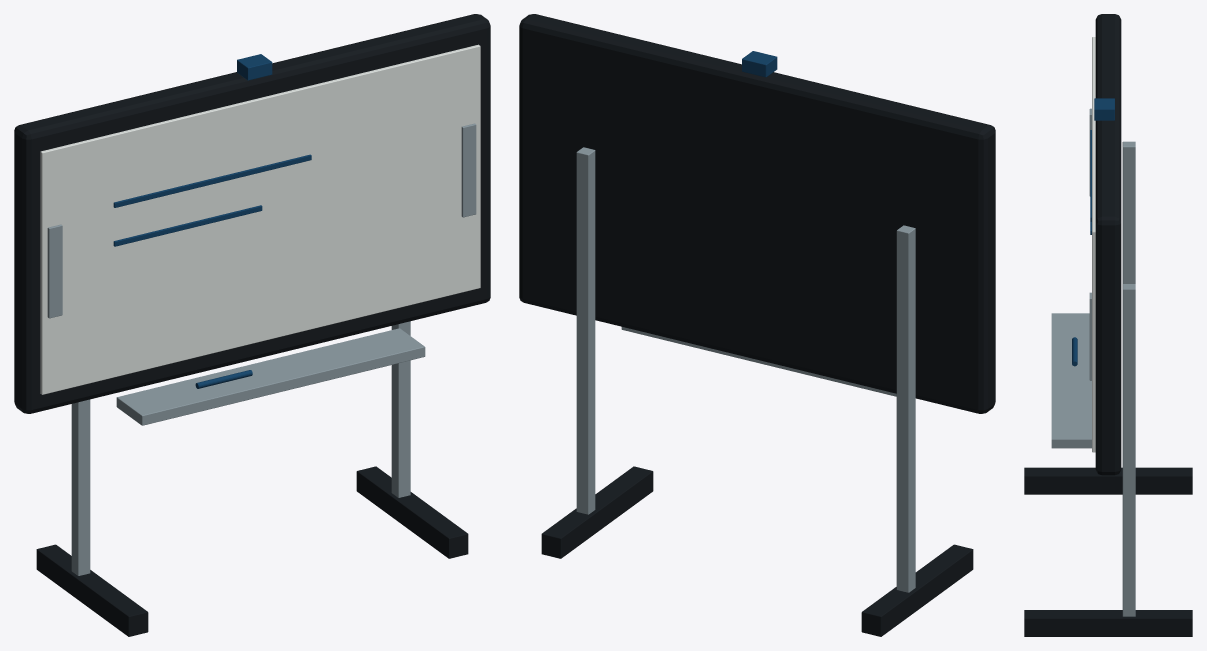
3 views of the same model, side by side, from view 1: azimuth 30°, elevation 25°; view 2: azimuth 150°, elevation 25°; view 3: azimuth 270°, elevation 25° (orthographic). The views are drawn at different scales.
Visible parts, largest first — view 1: BOARD_Surface, BOARD_Frame, PEN_Tray, FRAME_Foot, FRAME_Foot.001, FRAME_Upright, FRAME_Upright.001, SPEAKER.001, SPEAKER, LESSON_Line1, LESSON_Line2, CAMERA; view 2: BOARD_Frame, FRAME_Upright.001, FRAME_Upright, FRAME_Foot, FRAME_Foot.001, PEN_Tray, CAMERA; view 3: BOARD_Frame, PEN_Tray, FRAME_Upright.001, FRAME_Foot.001, FRAME_Foot, FRAME_Upright, BOARD_Surface, CAMERA, SPEAKER.001.
Boxes of the visible parts, box(x1,y1,x2,y2) form: BOARD_Surface: box(40, 44, 480, 394); BOARD_Frame: box(14, 14, 490, 413); PEN_Tray: box(116, 328, 425, 425); FRAME_Foot: box(36, 544, 148, 636); FRAME_Foot.001: box(356, 466, 468, 558); FRAME_Upright: box(71, 399, 90, 575); FRAME_Upright.001: box(391, 321, 410, 497); SPEAKER.001: box(461, 123, 476, 217); SPEAKER: box(47, 224, 62, 318); LESSON_Line1: box(113, 154, 311, 207); LESSON_Line2: box(113, 205, 262, 246); CAMERA: box(237, 54, 272, 80); BOARD_Frame: box(519, 14, 995, 413); FRAME_Upright.001: box(576, 147, 595, 514); FRAME_Upright: box(896, 225, 915, 592); FRAME_Foot: box(861, 544, 973, 636); FRAME_Foot.001: box(541, 466, 653, 558); PEN_Tray: box(621, 327, 896, 396); CAMERA: box(742, 51, 777, 77); BOARD_Frame: box(1095, 14, 1121, 475); PEN_Tray: box(1051, 313, 1091, 448); FRAME_Upright.001: box(1122, 284, 1135, 616); FRAME_Foot.001: box(1024, 610, 1192, 636); FRAME_Foot: box(1024, 467, 1192, 494); FRAME_Upright: box(1122, 141, 1135, 283); BOARD_Surface: box(1092, 37, 1095, 452); CAMERA: box(1094, 98, 1114, 120); SPEAKER.001: box(1089, 292, 1091, 380).
Bounding box in the file's own units: 1.9 × 1.95 × 0.65.
